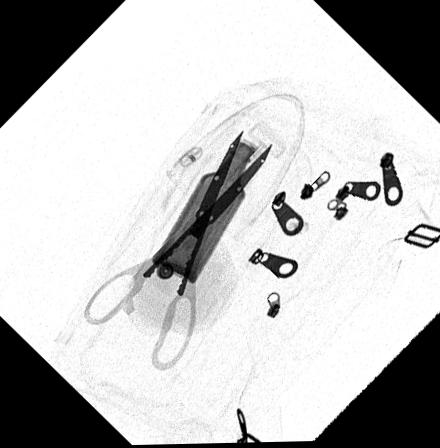Scissors: (80, 128, 276, 375)
